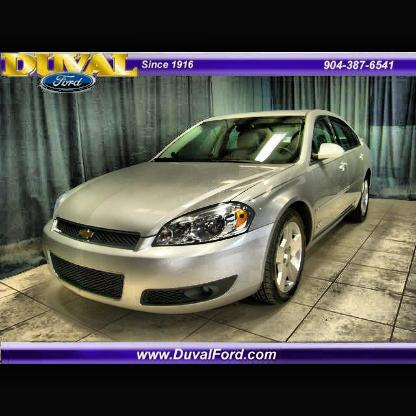Chevrolet Impala Sedan 2007: (45, 111, 377, 319)
